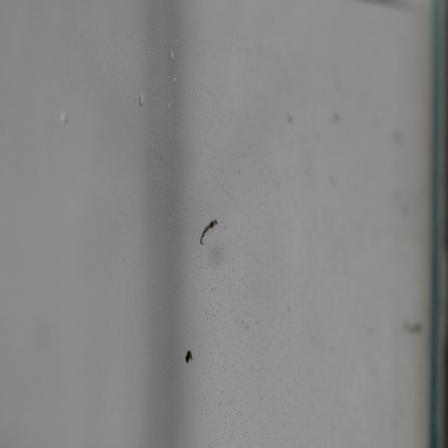Jentik-Nyamuk: (197, 215, 221, 247), (182, 346, 195, 367)
